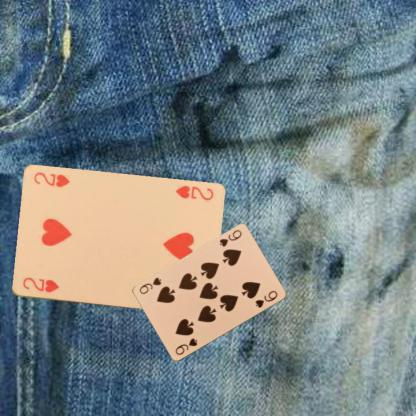2h: (19, 275, 60, 294), (173, 183, 214, 202)
9s: (216, 227, 242, 249), (172, 336, 199, 356)
